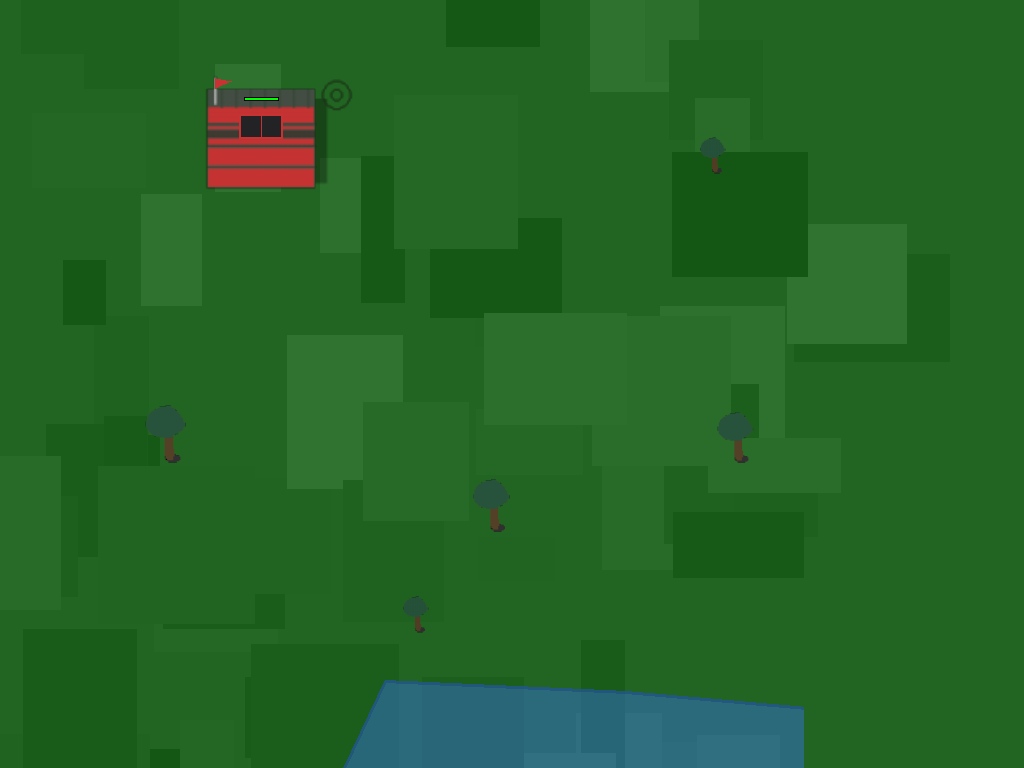Barracks: (195, 31, 326, 162)
Lake: (306, 681, 804, 768)
